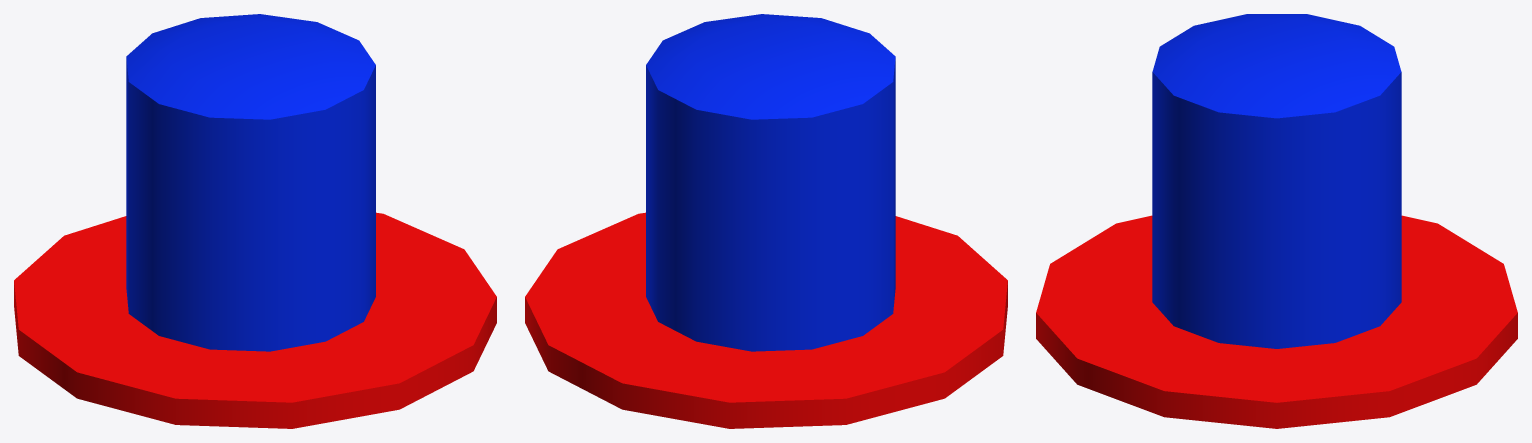
File: Bumper_Bottom.fbx
3 renders of one model, left to right at view 1: azimuth 30°, elevation 25°; view 2: azimuth 150°, elevation 25°; view 3: azimuth 270°, elevation 25°, orthographic.
Parts seen in each view (by area): view 1: Bumper_Bottom; view 2: Bumper_Bottom; view 3: Bumper_Bottom.
Boxes of the visible parts, x1,y1,x2,y2 form: Bumper_Bottom: (14,14,496,428); Bumper_Bottom: (525,14,1007,428); Bumper_Bottom: (1036,14,1517,428).
Bounding box in the file's own units: 115 × 72.26 × 116.
